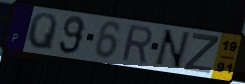6: (92, 19, 124, 61)
9: (57, 14, 86, 56)
N: (152, 28, 193, 71)
Q: (26, 11, 60, 53)
R: (120, 23, 153, 66)
Z: (182, 32, 221, 76)
